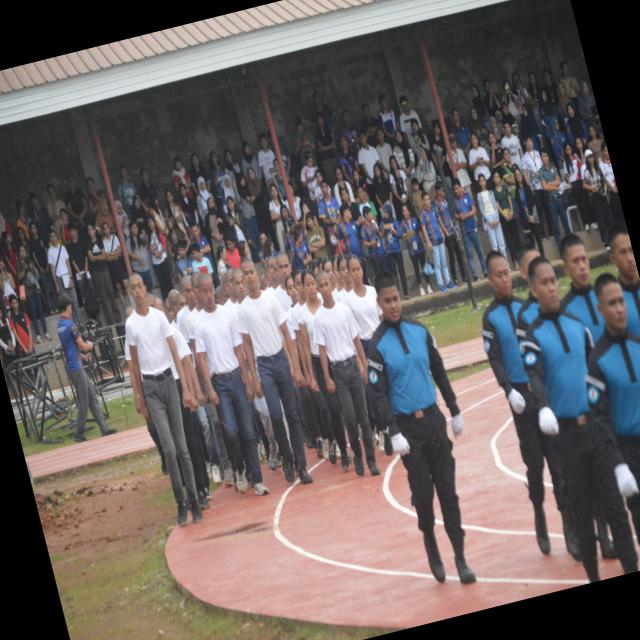person: (521, 257, 638, 581), (368, 271, 475, 583), (482, 251, 580, 560), (126, 273, 202, 526), (239, 259, 312, 483), (195, 274, 268, 495), (313, 271, 380, 475), (588, 274, 639, 541), (58, 296, 117, 442), (560, 233, 604, 342), (344, 256, 383, 357), (419, 192, 456, 292), (453, 178, 488, 282), (433, 181, 467, 285), (609, 225, 639, 336), (401, 204, 433, 295), (540, 151, 570, 247), (381, 205, 410, 300), (515, 167, 544, 256), (477, 173, 507, 259)
